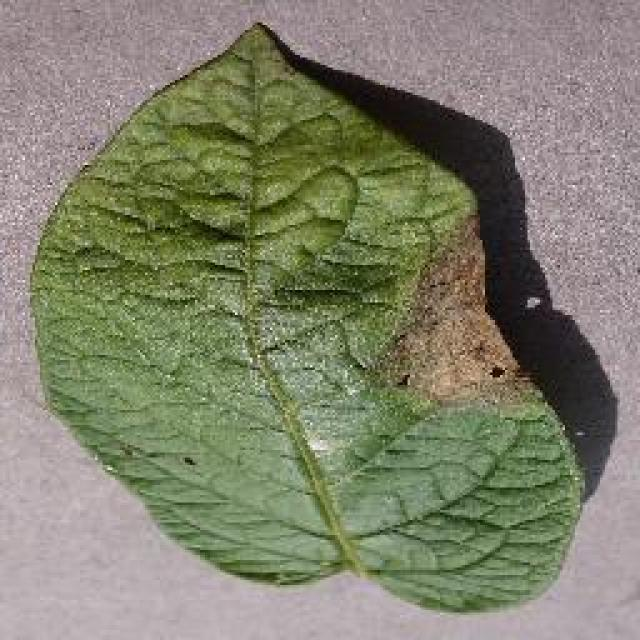Potato: (25, 20, 585, 615)
